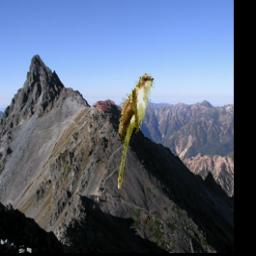Cuckoo: (118, 73, 156, 189)
